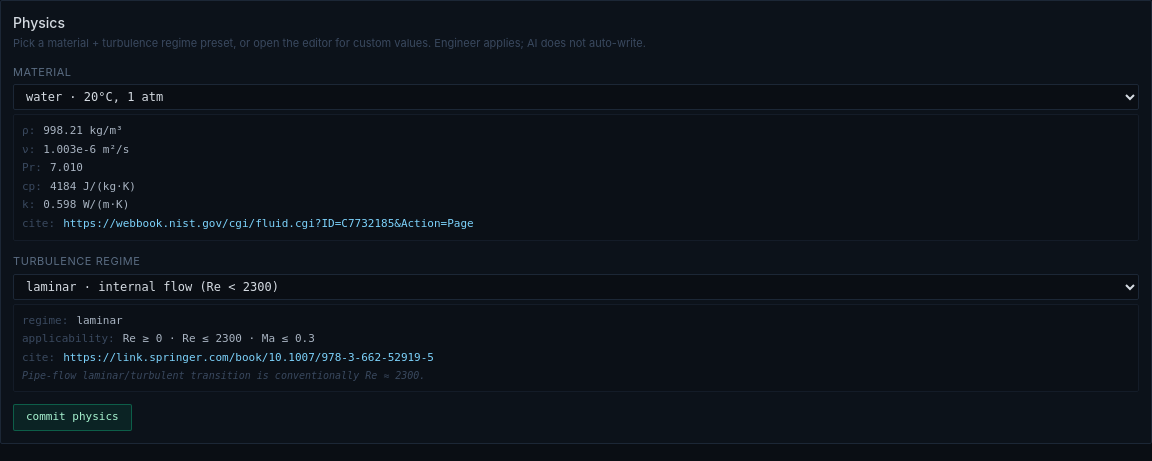
Test: PhysicsPanel · commit › surfaces error message on ApiError
Click the button with test id "physics-commit-button": (72, 417) [13, 404, 132, 430]
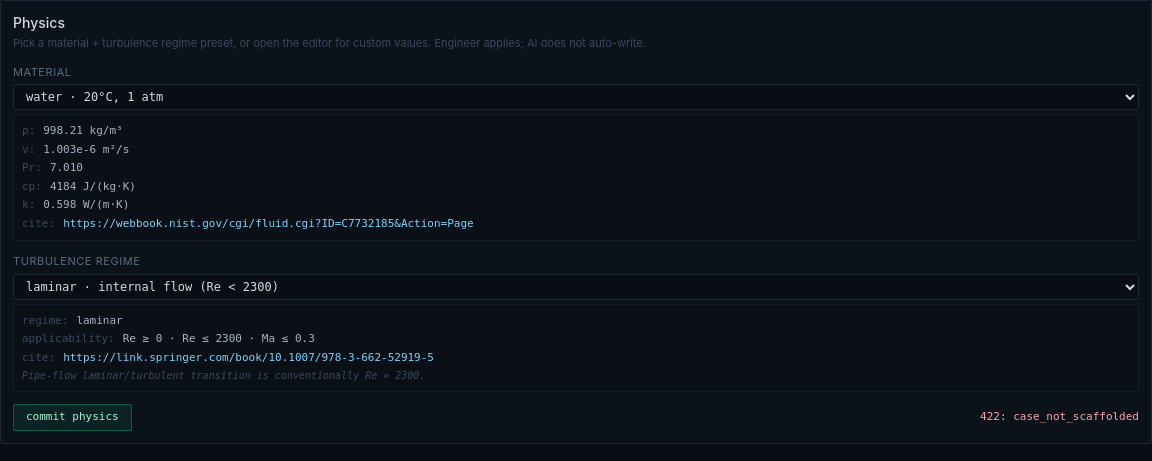
Now the text "422: case_not_scaffolded" is shown, box [980, 409, 1139, 426]
Now the text with test id "physics-commit-error" shows "422", box [980, 410, 1139, 423]
